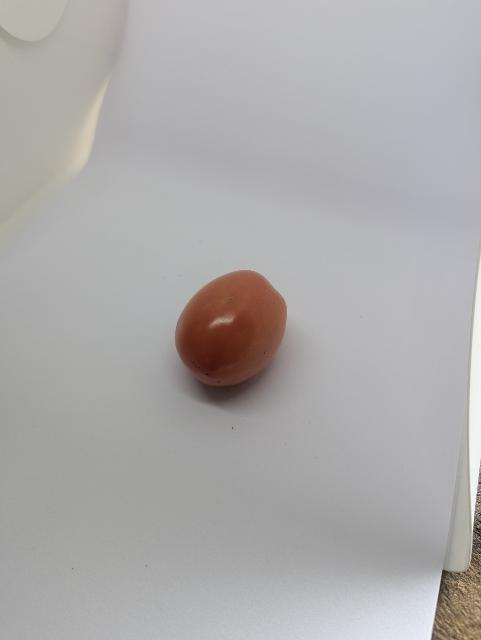red: (165, 257, 296, 403)
